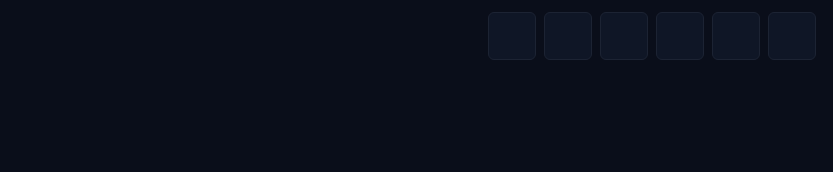
OtpInput › types into cells in order and advances focus
Type "1" into the field named "Digit" at (512, 36), box [488,12,536,60]
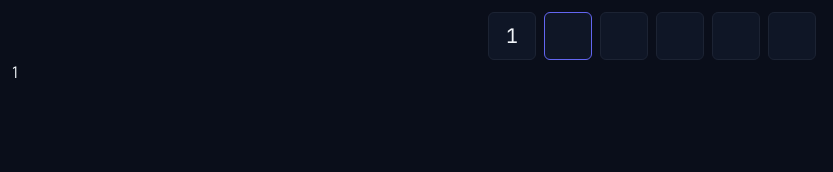
Type "2" into the field named "Digit" at (568, 36), box [544,12,592,60]
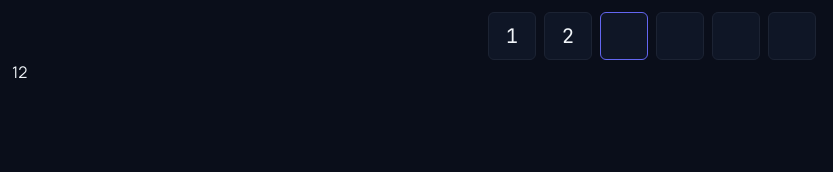
Type "3" into the field named "Digit" at (624, 36), box [600,12,648,60]
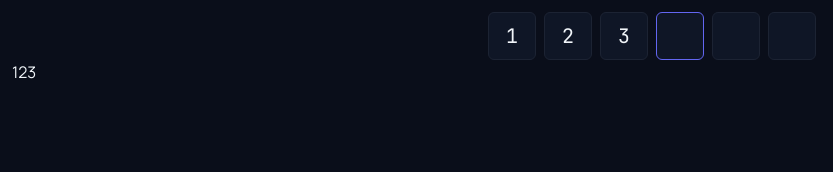
Result: the text with test id "v" reads "123" at [12,61,36,83]
